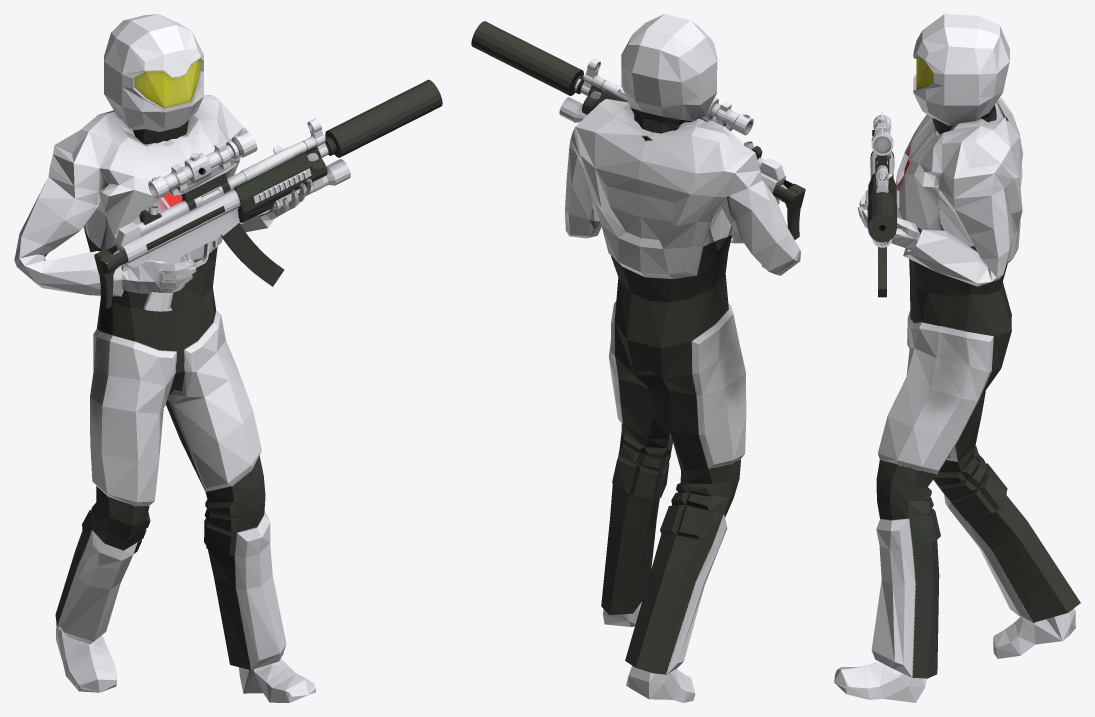
File: walk11.obj
The picture shows the model from 3 angles, left to right: view 1: azimuth 30°, elevation 25°; view 2: azimuth 150°, elevation 25°; view 3: azimuth 270°, elevation 25°; orthographic projection. The views are drawn at different scales.
Parts seen in each view (by area): view 1: Male001Skin_001, Object001; view 2: Male001Skin_001, Object001; view 3: Male001Skin_001, Object001.
Boxes of the visible parts, x1,y1,x2,y2 form: Male001Skin_001: (14,14,315,702); Object001: (94,79,442,311); Male001Skin_001: (565,14,800,702); Object001: (471,21,805,243); Male001Skin_001: (834,14,1080,702); Object001: (865,112,899,297).
Bounding box in the file's own units: 1111 × 1898 × 654.
Materials: 1 (1 with a texture image).
